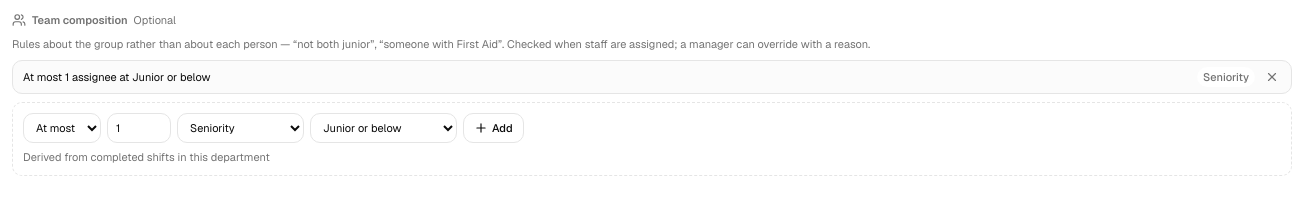
Test case: CompositionRulesEditor › says so rather than silently ignoring a duplicate
Click the button "Add" at (493, 128), box [463,113,524,143]
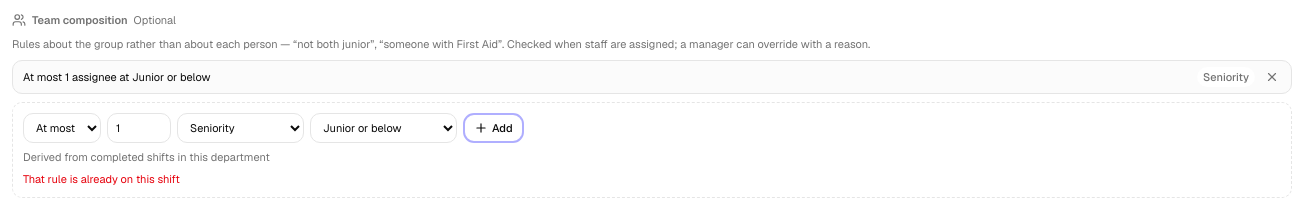
Expected: the message shows "already on this shift", [23,172,180,186]
